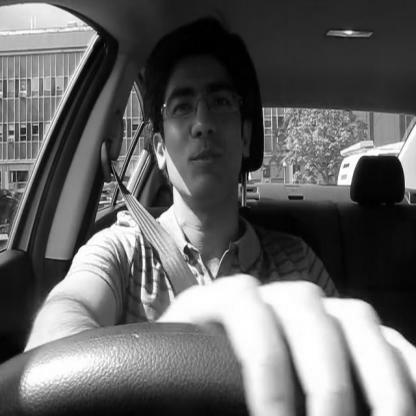seatbelt: (98, 14, 267, 416)
